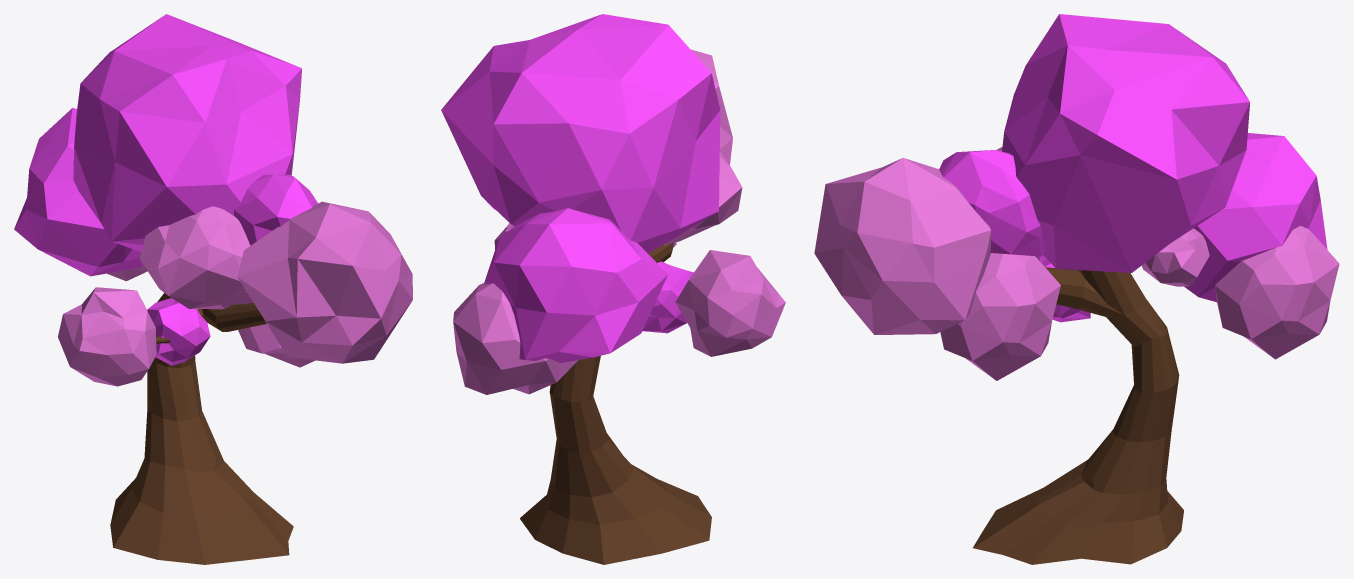
File: Tree1.fbx
3 views of the same model, side by side, from view 1: azimuth 30°, elevation 25°; view 2: azimuth 150°, elevation 25°; view 3: azimuth 270°, elevation 25° (orthographic). The views are drawn at different scales.
Visible parts, largest first — view 1: Icosphere.008; view 2: Icosphere.008; view 3: Icosphere.008.
Boxes of the visible parts, box(x1,y1,x2,y2) form: Icosphere.008: box(14, 14, 412, 564); Icosphere.008: box(441, 14, 785, 564); Icosphere.008: box(814, 14, 1339, 564).
Bounding box in the file's own units: 330 × 565 × 543.
